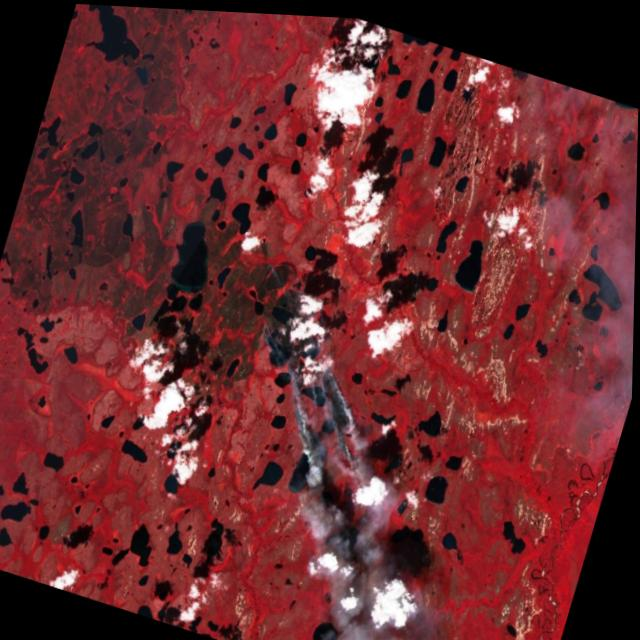fire: (253, 246, 297, 294), (254, 317, 280, 352)
